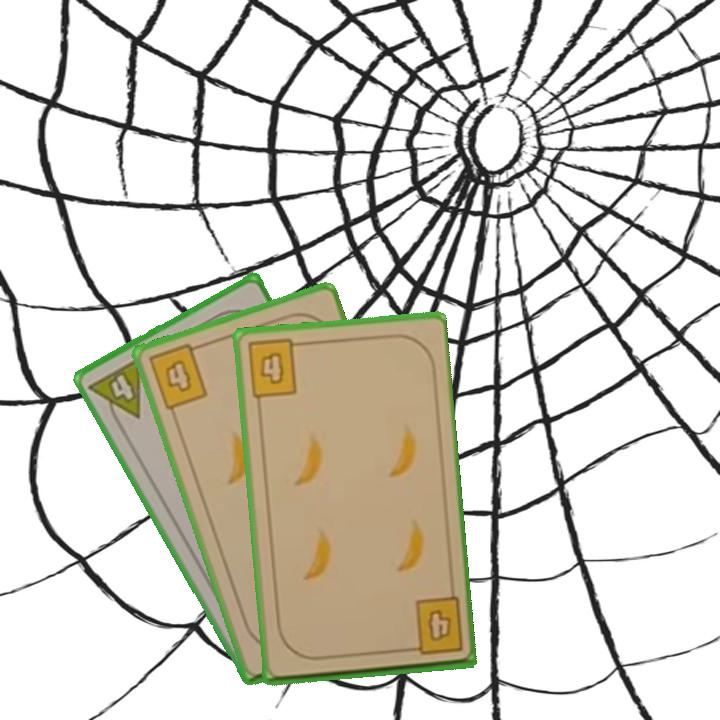4b: (144, 340, 210, 413), (400, 594, 466, 658), (244, 336, 306, 400)
4p: (84, 353, 144, 431)
